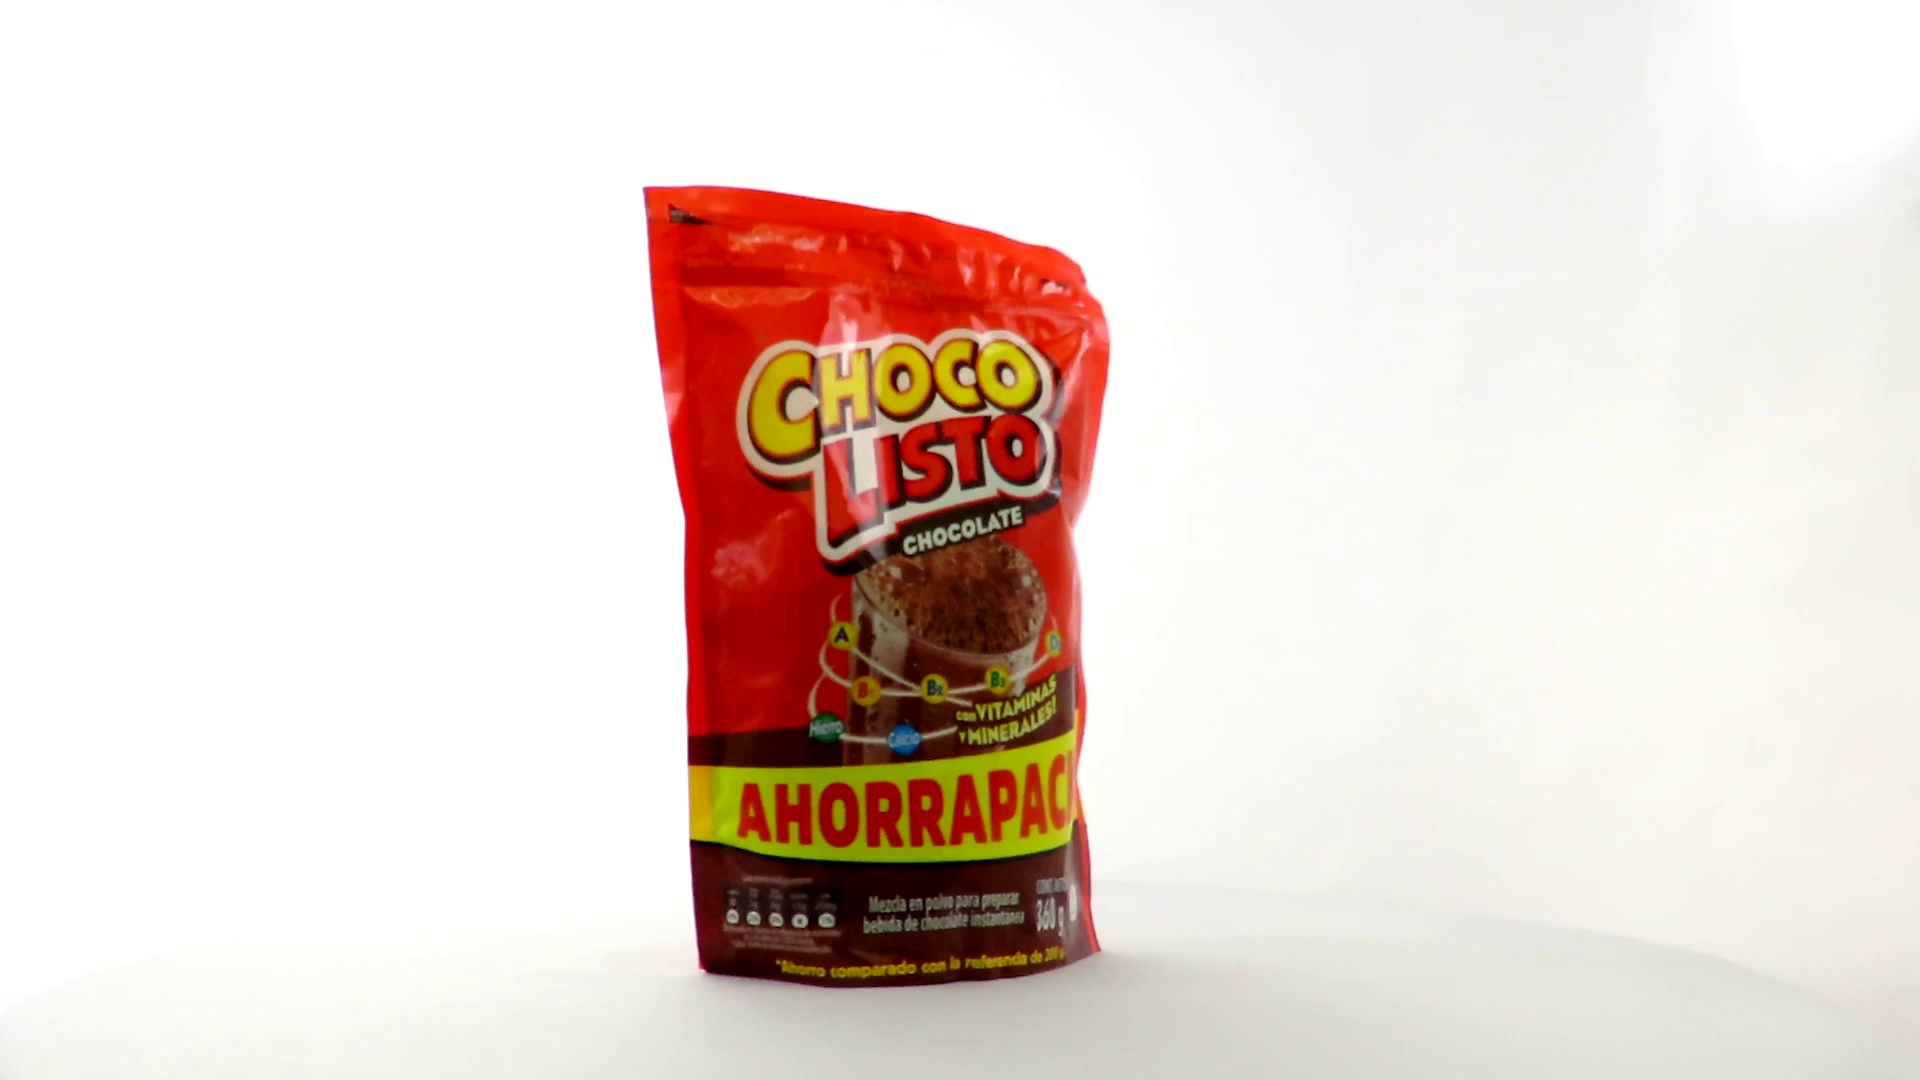COL0170103DYP36000: (637, 179, 1116, 994)
